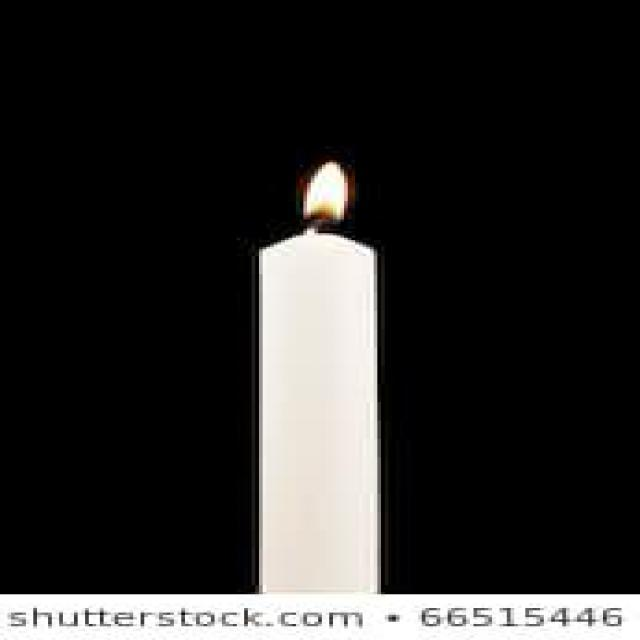Fire: (300, 161, 348, 232)
